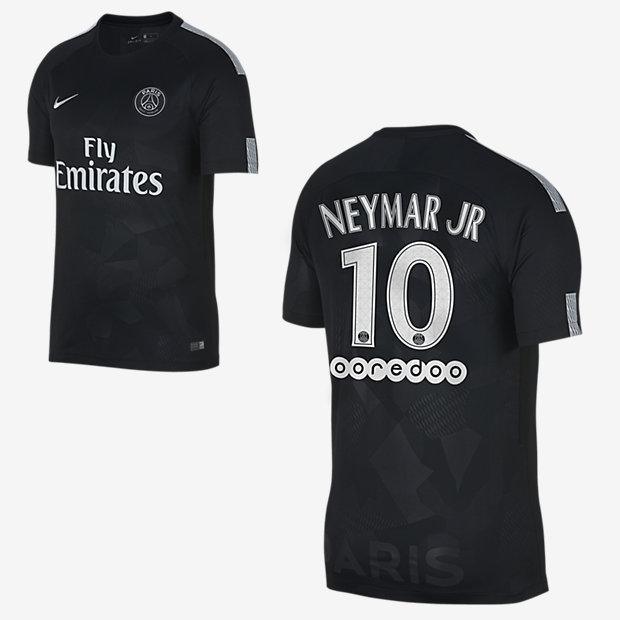teeshirt: (279, 121, 600, 618), (12, 6, 268, 389)
